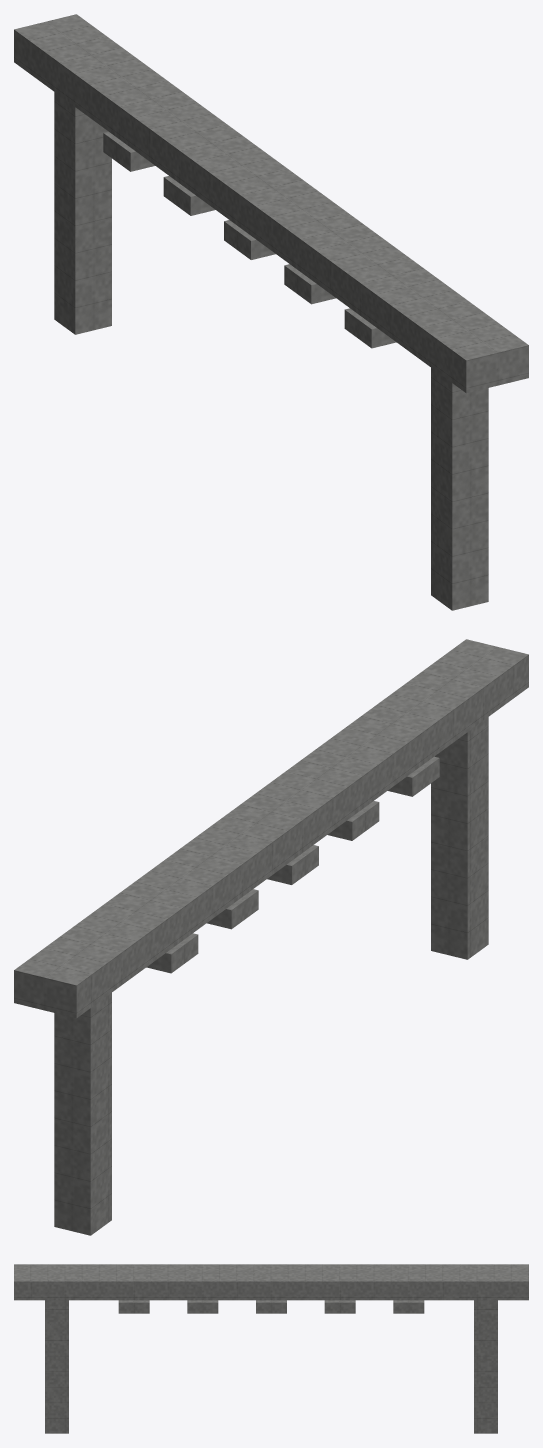
File: start_bridge.obj
The picture shows the model from 3 angles, top to bottom: view 1: azimuth 30°, elevation 25°; view 2: azimuth 150°, elevation 25°; view 3: azimuth 270°, elevation 25°; orthographic projection. The views are drawn at different scales.
Visible parts, largest first — view 1: start_bridge; view 2: start_bridge; view 3: start_bridge.
Part boxes in pixels (bbox=[...]): start_bridge: bbox=[14, 14, 528, 610]; start_bridge: bbox=[14, 639, 528, 1235]; start_bridge: bbox=[14, 1264, 528, 1433].
Size of the model in its own units: 2.6 by 10 by 30.
Materials: 1 (1 with a texture image).
